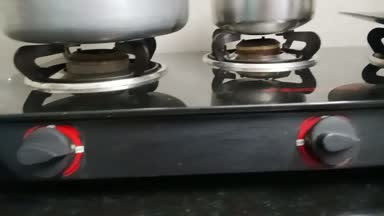flame_gas_off: (214, 26, 364, 170), (12, 43, 147, 174)
